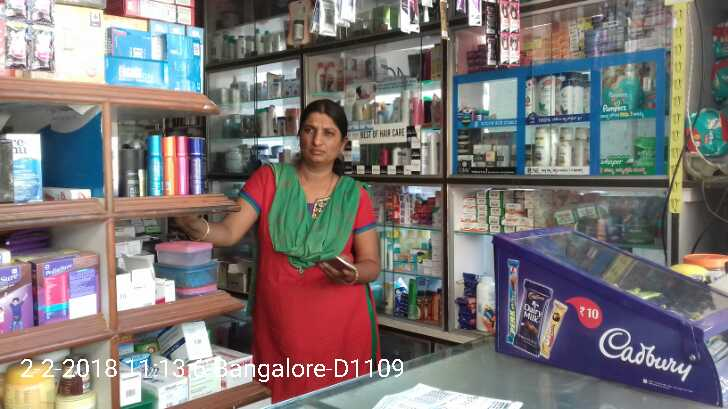beauty: (533, 129, 552, 167), (538, 75, 556, 115), (556, 76, 573, 115), (553, 140, 569, 165), (569, 140, 585, 164)
pharmacy: (599, 64, 637, 112), (492, 145, 509, 170), (455, 130, 469, 153)
